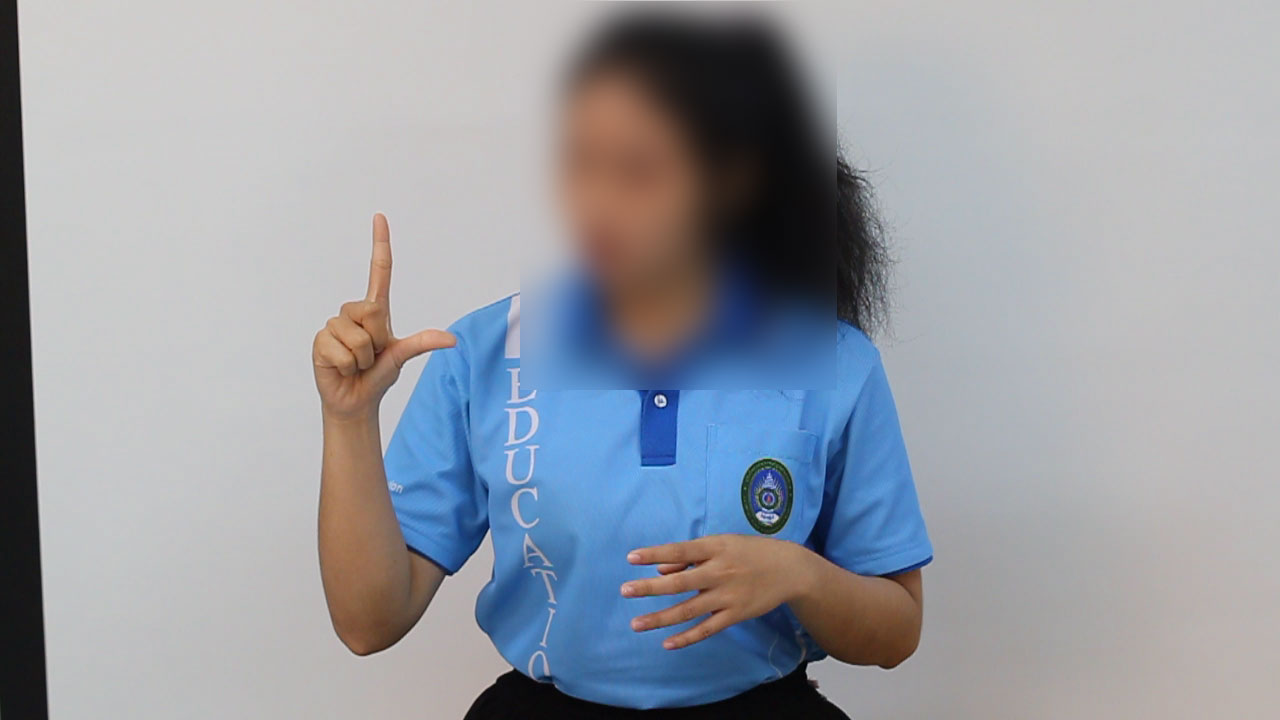lor: (287, 192, 482, 402)
